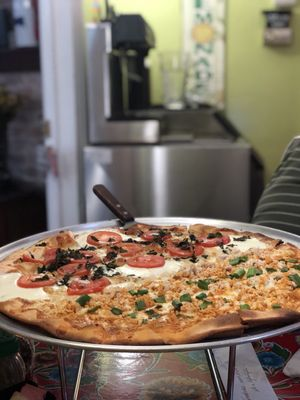sandwich: (93, 184, 135, 225)
